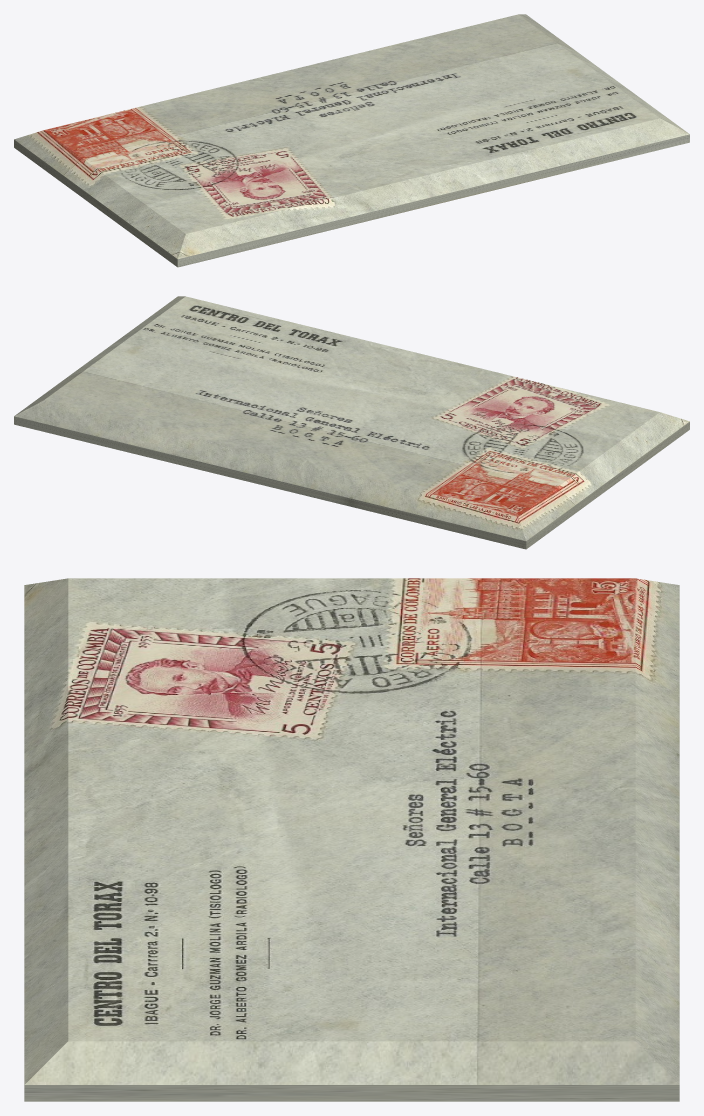
File: Carta.fbx
3 views of the same model, one above another, from view 1: azimuth 30°, elevation 25°; view 2: azimuth 150°, elevation 25°; view 3: azimuth 270°, elevation 25° (orthographic). The views are drawn at different scales.
Visible parts, largest first — view 1: Carta; view 2: Carta; view 3: Carta.
Boxes of the visible parts, left/top/right/bottom form: Carta: left=14, top=14, right=689, bottom=267; Carta: left=14, top=296, right=689, bottom=549; Carta: left=24, top=578, right=679, bottom=1101.
Bounding box in the file's own units: 200 × 7.81 × 111.
